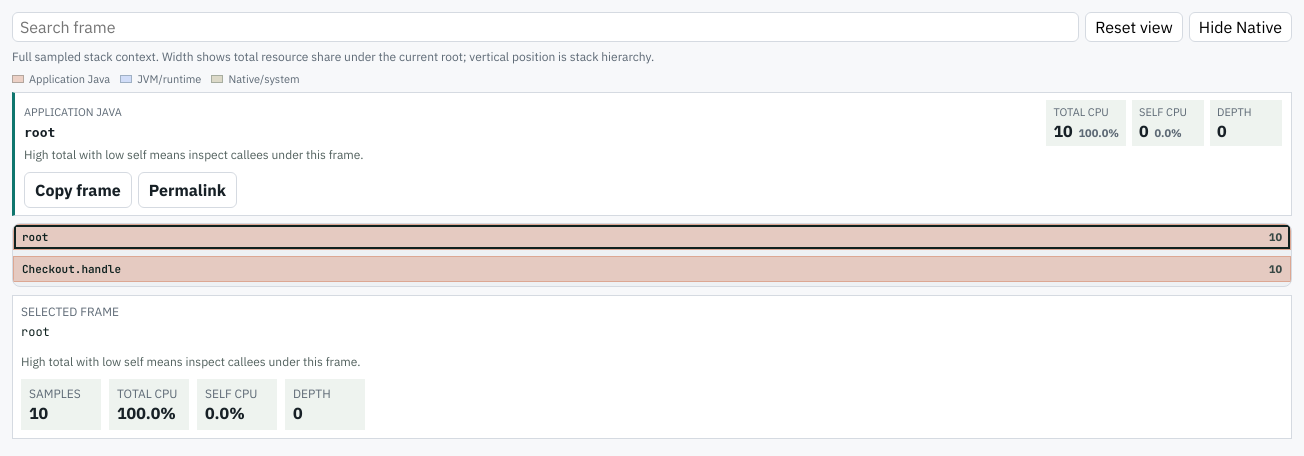
Test case: keeps flamegraph context when no frames match the search
The image size is (1304, 456).
In the field named "Search flamegraph frames": (546, 27) x1=12 y1=12 x2=1079 y2=42, type "DemoHttpService"
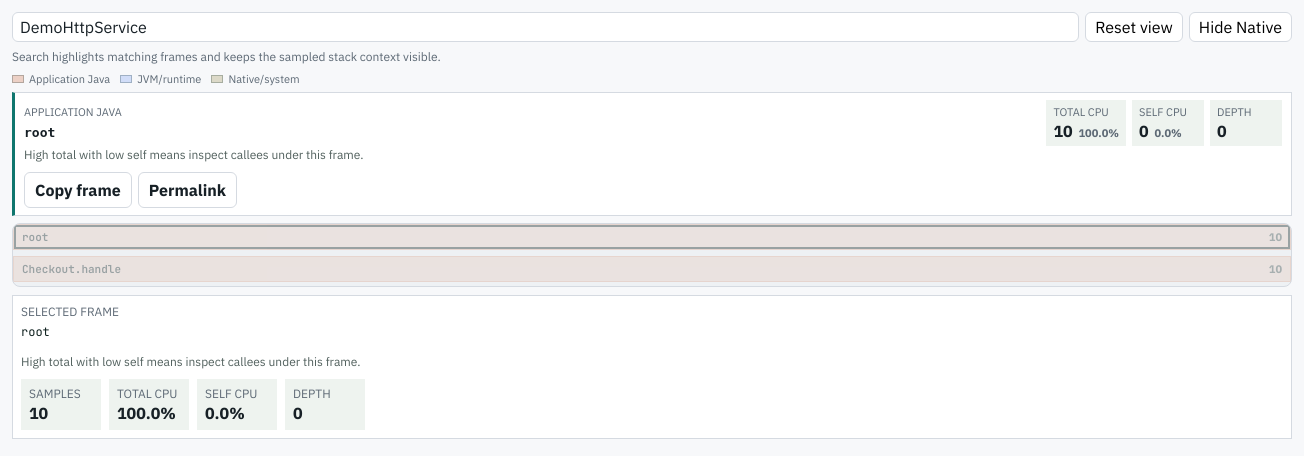
Now the text "Search highlights matching frames" is shown, box x1=12 y1=49 x2=441 y2=64
